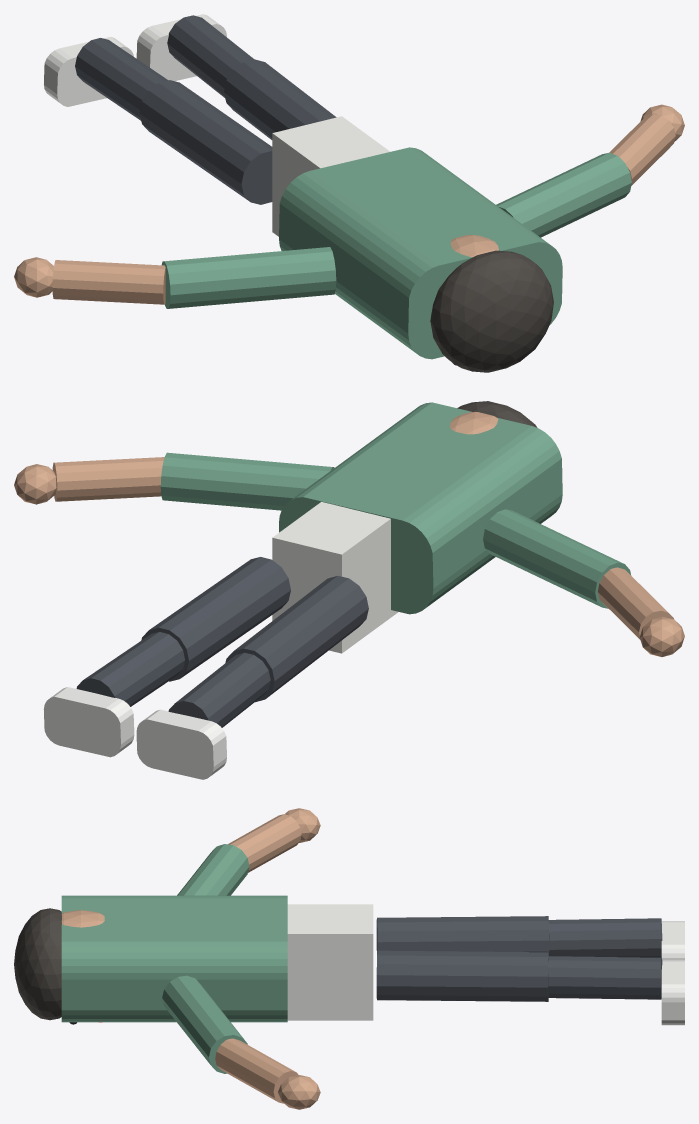
The model's file is CHAR_MALE_CASUAL_002.glb.
3 views of the same model, one above another, from view 1: azimuth 30°, elevation 25°; view 2: azimuth 150°, elevation 25°; view 3: azimuth 270°, elevation 25° (orthographic). The views are drawn at different scales.
Parts seen in each view (by area): view 1: torso_jacket_003, hair_cap_001, thigh_011, upper_arm_005, upper_arm_008, shirt_panel_004, thigh_014, forearm_006, shin_012, shin_015, forearm_009, shoe_013 (+4 smaller); view 2: torso_jacket_003, shirt_panel_004, thigh_014, thigh_011, upper_arm_008, upper_arm_005, shoe_013, shoe_016, shin_015, forearm_009, shin_012, forearm_006 (+4 smaller); view 3: torso_jacket_003, shirt_panel_004, thigh_014, thigh_011, shin_015, hair_cap_001, shin_012, upper_arm_008, forearm_009, upper_arm_005, forearm_006, shoe_016 (+4 smaller).
Part boxes in pixels (box(x1,y1,x2,y2)): torso_jacket_003: box(279, 147, 562, 359); hair_cap_001: box(430, 250, 553, 372); thigh_011: box(139, 80, 272, 204); upper_arm_005: box(161, 247, 336, 308); upper_arm_008: box(496, 152, 631, 237); shirt_panel_004: box(272, 116, 390, 236); thigh_014: box(224, 59, 336, 139); forearm_006: box(52, 260, 165, 304); shin_012: box(75, 38, 167, 120); shin_015: box(167, 15, 254, 97); forearm_009: box(609, 114, 675, 185); shoe_013: box(44, 37, 133, 106); torso_jacket_003: box(279, 402, 562, 614); shirt_panel_004: box(272, 502, 398, 653); thigh_014: box(141, 557, 290, 681); thigh_011: box(225, 576, 368, 702); upper_arm_008: box(160, 452, 334, 510); upper_arm_005: box(483, 509, 631, 608); shoe_013: box(136, 709, 226, 779); shoe_016: box(43, 687, 134, 757); shin_015: box(76, 632, 184, 706); forearm_009: box(52, 457, 164, 501); shin_012: box(168, 652, 270, 727); forearm_006: box(598, 567, 673, 639); torso_jacket_003: box(61, 895, 287, 1022); shirt_panel_004: box(287, 904, 373, 1020); thigh_014: box(376, 950, 548, 1001); thigh_011: box(376, 916, 549, 955); shin_015: box(548, 956, 662, 999); hair_cap_001: box(14, 908, 61, 1020); shin_012: box(548, 918, 662, 957); upper_arm_008: box(162, 975, 247, 1073); forearm_009: box(215, 1038, 298, 1103); upper_arm_005: box(177, 844, 249, 895); forearm_006: box(228, 814, 301, 872); shoe_016: box(661, 960, 684, 1025).
Bounding box in the file's own units: 1.72 × 0.2918 × 1.72.
